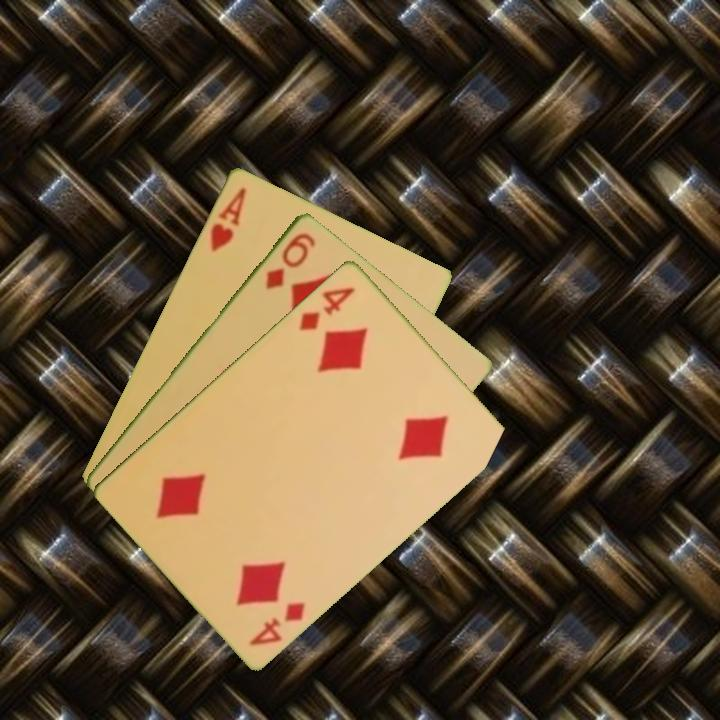4d: (245, 597, 309, 649), (295, 283, 358, 334)
6d: (261, 228, 318, 293)
Ah: (206, 183, 249, 254)
